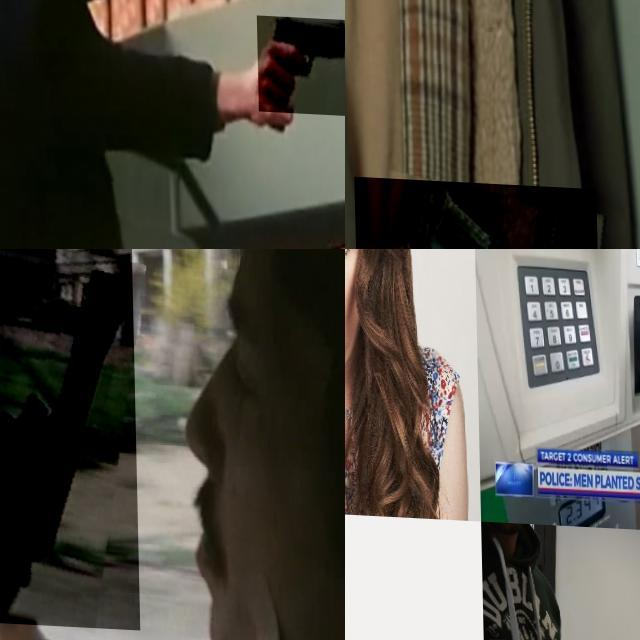gun-knife-thesis - v11 Yolov5 augmented: (0, 249, 138, 627), (353, 175, 600, 249), (255, 9, 345, 109)
